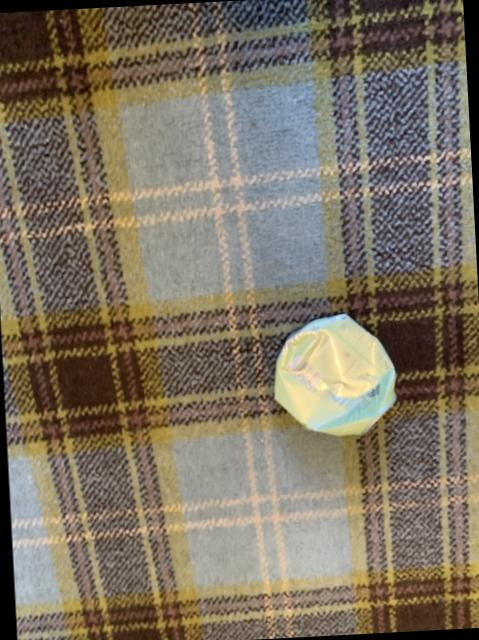metal: (272, 312, 394, 433)
